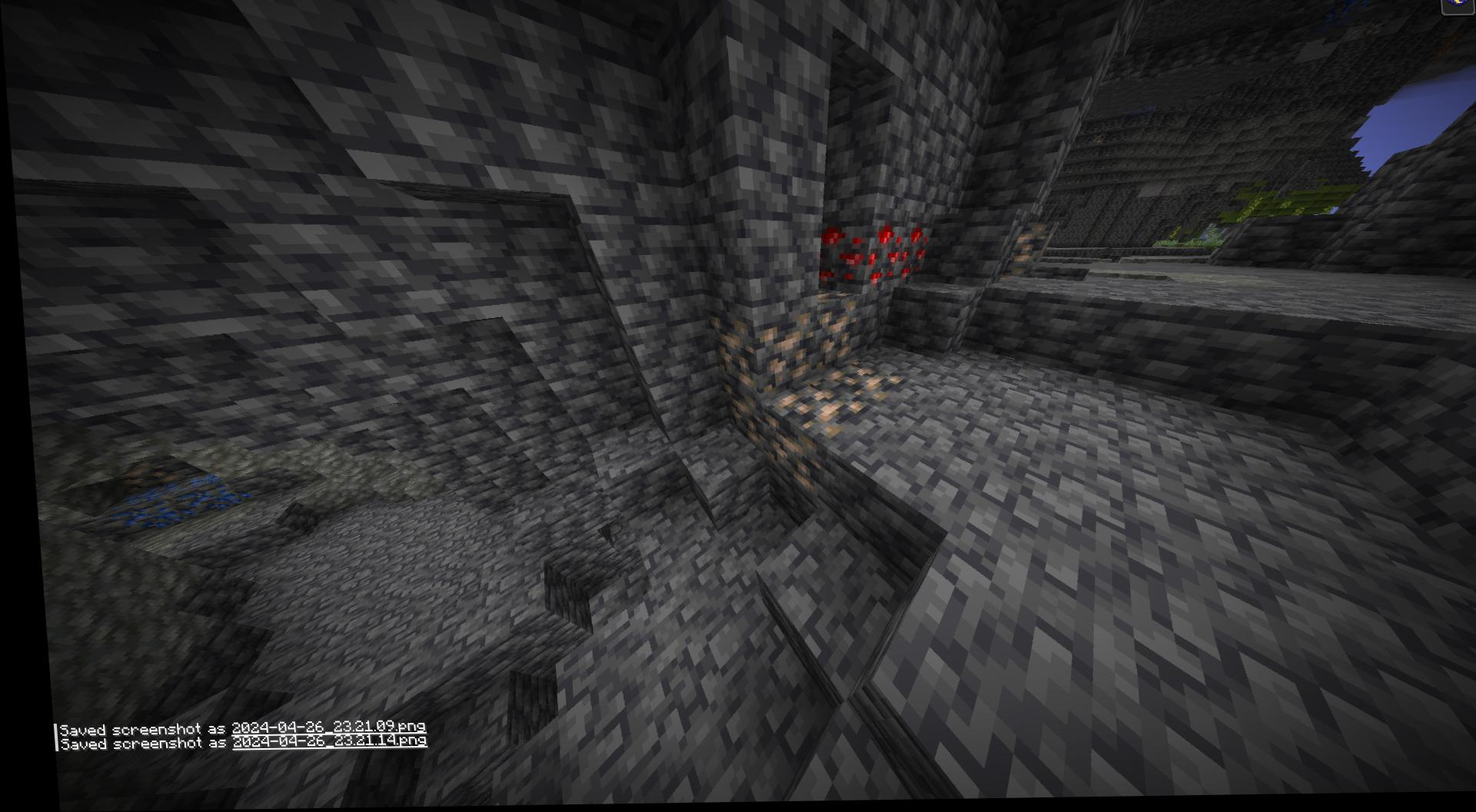iron ore: (762, 383, 845, 435), (705, 313, 754, 383), (754, 321, 806, 378), (760, 433, 809, 491), (806, 305, 852, 363), (827, 365, 894, 404), (721, 390, 757, 442), (1009, 221, 1044, 269)
redstone ore: (815, 230, 865, 289), (862, 226, 899, 285), (898, 230, 925, 278)
